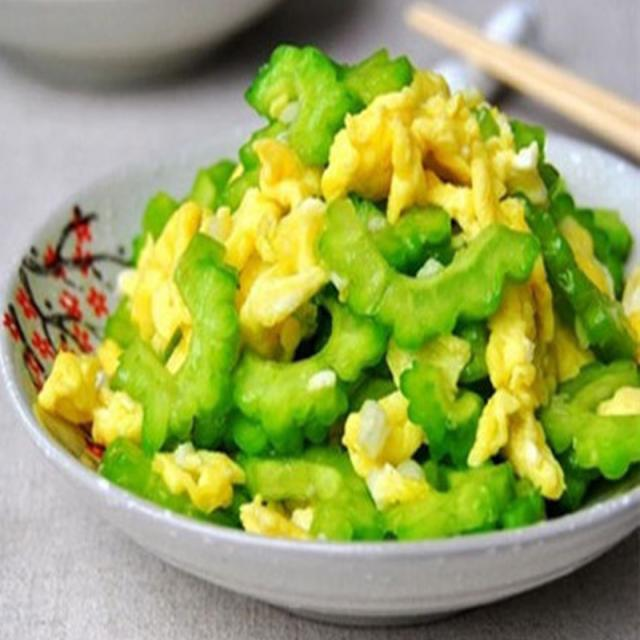kho qua: (38, 45, 639, 540)
